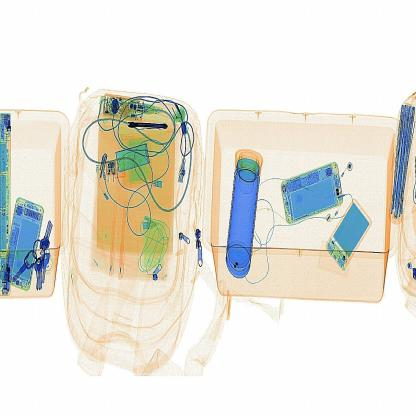knife: (119, 108, 175, 144)
